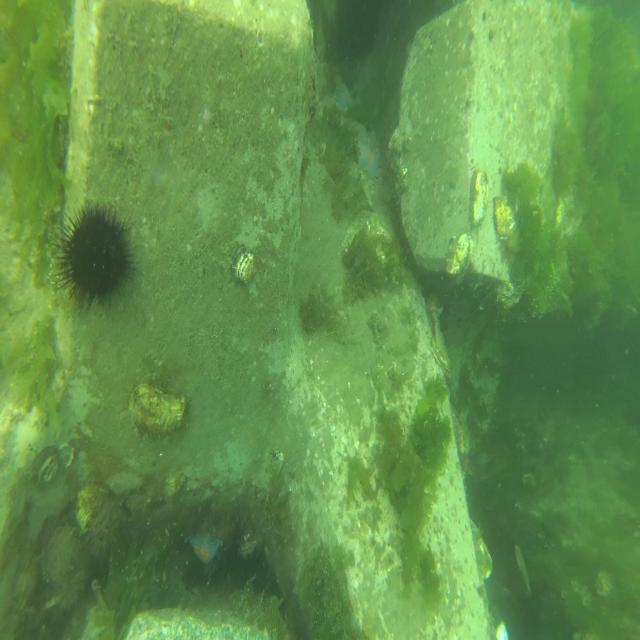echinus: (48, 194, 141, 316)
scallop: (430, 327, 453, 378)
starfish: (182, 527, 224, 569), (354, 134, 383, 182), (332, 69, 357, 114)
